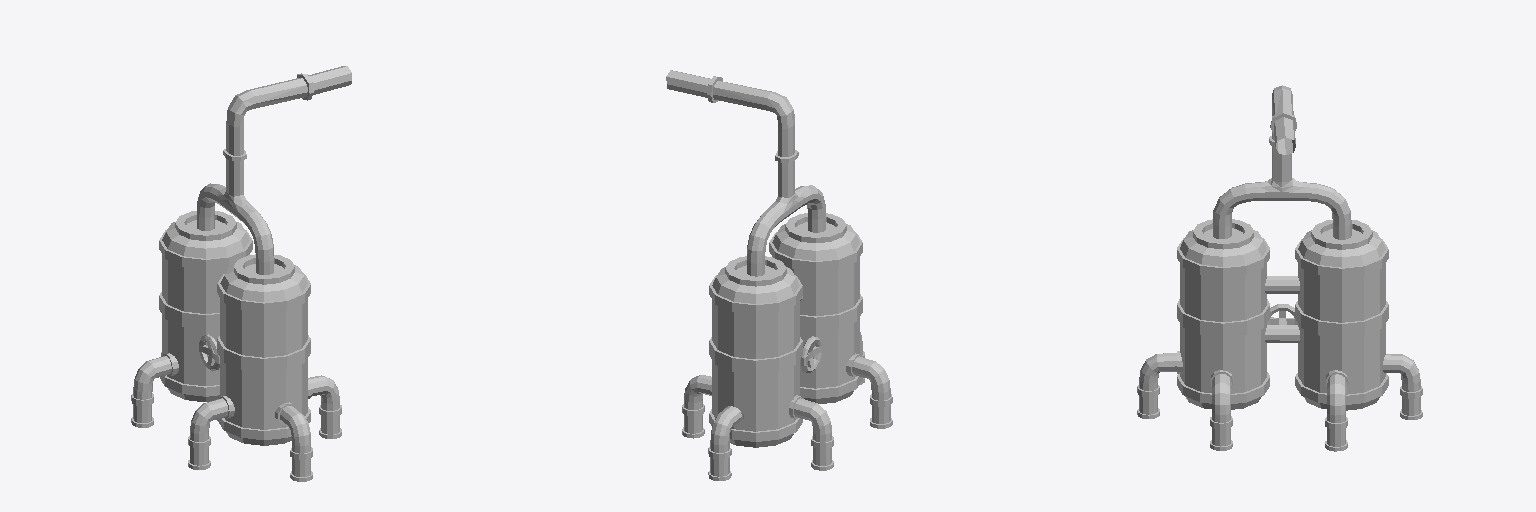
The model's file is twoTanks.obj.
3 renders of one model, left to right at view 1: azimuth 30°, elevation 25°; view 2: azimuth 150°, elevation 25°; view 3: azimuth 270°, elevation 25°, orthographic.
Visible parts, largest first — view 1: fuelTank Hub; view 2: fuelTank Hub; view 3: fuelTank Hub.
Part boxes in pixels (x1,y1,x2,y2): fuelTank Hub: (131,66,351,481); fuelTank Hub: (666,70,892,480); fuelTank Hub: (1137,85,1422,451).
Bounding box in the file's own units: 10.1 × 17.14 × 13.19.